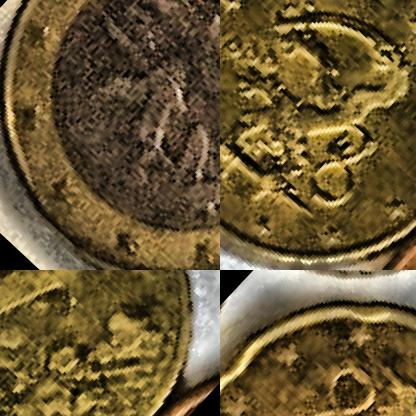coin: (0, 0, 219, 269), (220, 0, 415, 269), (0, 270, 219, 415), (220, 270, 415, 415)
